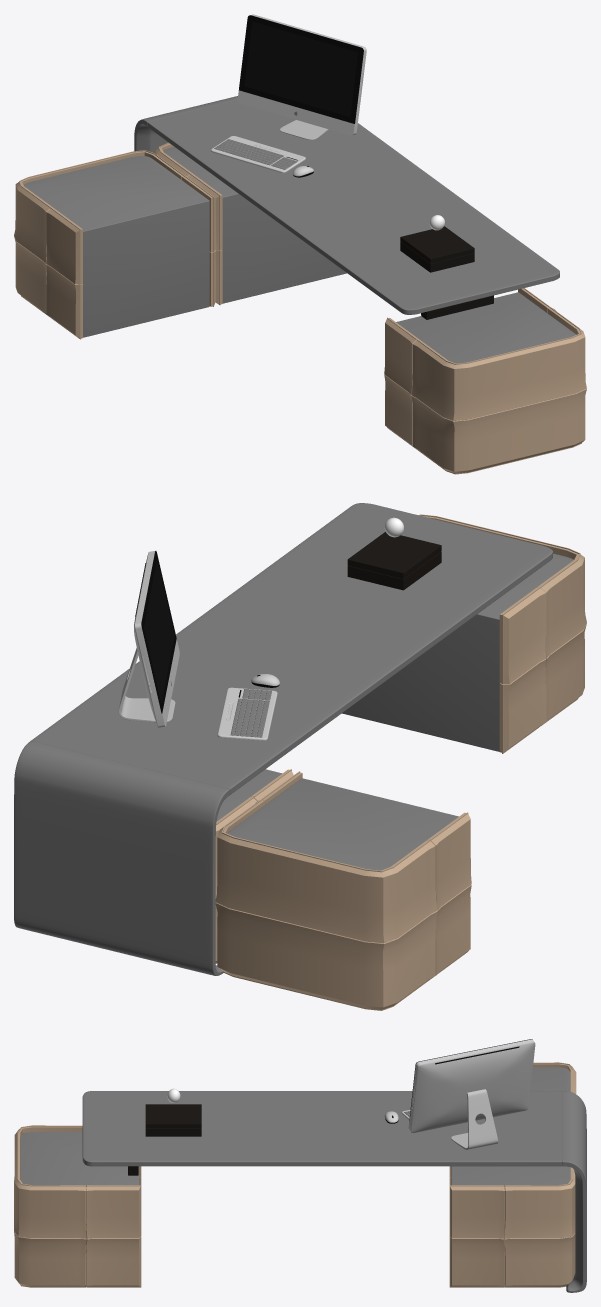
Rendered from WOODEN AND LEATHER OFFICE DESK.fbx.
3 renders of one model, top to bottom at view 1: azimuth 30°, elevation 25°; view 2: azimuth 150°, elevation 25°; view 3: azimuth 270°, elevation 25°, orthographic. The views are drawn at different scales.
Visible parts, largest first — view 1: 牧野表现【576418235】0048, 牧野表现【576418235】0046, 牧野表现【576418235】0054, 牧野表现【576418235】0105, 牧野表现【576418235】0053, 牧野表现【576418235】0051, 牧野表现【576418235】0049, 牧野表现【576418235】0032, 牧野表现【576418235】0047, 牧野表现【576418235】0052, 牧野表现【576418235】0113, 牧野表现【576418235】0111 (+3 smaller); view 2: 牧野表现【576418235】0048, 牧野表现【576418235】0052, 牧野表现【576418235】0053, 牧野表现【576418235】0049, 牧野表现【576418235】0046, 牧野表现【576418235】0054, 牧野表现【576418235】0105, 牧野表现【576418235】0032, 牧野表现【576418235】0113, 牧野表现【576418235】0111, 牧野表现【576418235】0047, 牧野表现【576418235】0031 (+2 smaller); view 3: 牧野表现【576418235】0048, 牧野表现【576418235】0046, 牧野表现【576418235】0047, 牧野表现【576418235】0104, 牧野表现【576418235】0049, 牧野表现【576418235】0052, 牧野表现【576418235】0051, 牧野表现【576418235】0106, 牧野表现【576418235】0032, 牧野表现【576418235】0054, 牧野表现【576418235】0105, 牧野表现【576418235】0031 (+1 smaller).
Part boxes in pixels (box(x1,y1,x2,y2)): 牧野表现【576418235】0048: box(147, 100, 559, 314); 牧野表现【576418235】0046: box(384, 288, 586, 474); 牧野表现【576418235】0054: box(23, 156, 209, 337); 牧野表现【576418235】0105: box(237, 14, 366, 135); 牧野表现【576418235】0053: box(14, 150, 216, 339); 牧野表现【576418235】0051: box(163, 146, 346, 303); 牧野表现【576418235】0049: box(396, 292, 575, 363); 牧野表现【576418235】0032: box(400, 226, 474, 263); 牧野表现【576418235】0047: box(155, 142, 222, 305); 牧野表现【576418235】0052: box(134, 96, 237, 153); 牧野表现【576418235】0113: box(214, 139, 297, 169); 牧野表现【576418235】0111: box(211, 136, 305, 172); 牧野表现【576418235】0048: box(31, 503, 552, 794); 牧野表现【576418235】0052: box(14, 741, 229, 975); 牧野表现【576418235】0053: box(215, 771, 471, 1010); 牧野表现【576418235】0049: box(342, 553, 573, 751); 牧野表现【576418235】0046: box(418, 514, 586, 753); 牧野表现【576418235】0054: box(227, 778, 458, 870); 牧野表现【576418235】0105: box(135, 551, 179, 727); 牧野表现【576418235】0032: box(347, 531, 441, 578); 牧野表现【576418235】0113: box(230, 689, 271, 737); 牧野表现【576418235】0111: box(217, 687, 277, 740); 牧野表现【576418235】0047: box(215, 769, 293, 963); 牧野表现【576418235】0031: box(347, 551, 441, 590); 牧野表现【576418235】0048: box(82, 1091, 562, 1166); 牧野表现【576418235】0046: box(14, 1125, 141, 1287); 牧野表现【576418235】0047: box(449, 1166, 575, 1287); 牧野表现【576418235】0104: box(410, 1042, 535, 1133); 牧野表现【576418235】0049: box(20, 1132, 139, 1185); 牧野表现【576418235】0052: box(562, 1091, 586, 1292); 牧野表现【576418235】0051: box(451, 1166, 570, 1185); 牧野表现【576418235】0106: box(451, 1089, 498, 1149); 牧野表现【576418235】0032: box(145, 1104, 201, 1128); 牧野表现【576418235】0054: box(530, 1067, 570, 1091); 牧野表现【576418235】0105: box(408, 1039, 534, 1131); 牧野表现【576418235】0031: box(145, 1128, 201, 1136).
Bounding box in the file's own units: 1665 × 1317 × 3080.
